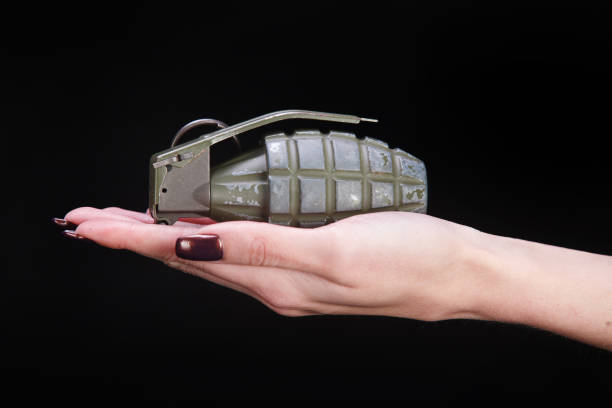e1: (145, 102, 441, 223)
